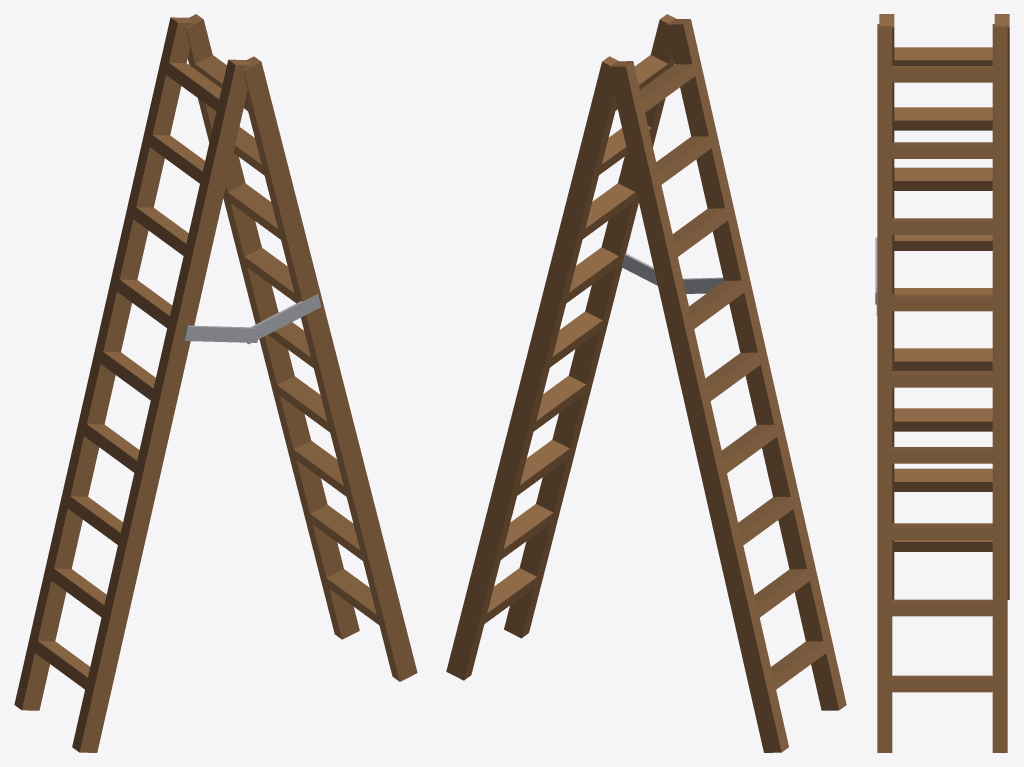
Rendered from escalera_plegable1.fbx.
3 renders of one model, left to right at view 1: azimuth 30°, elevation 25°; view 2: azimuth 150°, elevation 25°; view 3: azimuth 270°, elevation 25°, orthographic.
Parts seen in each view (by area): view 1: Cubo; view 2: Cubo; view 3: Cubo.
Boxes of the visible parts, <box> form: Cubo: <box>14,14,417,752</box>; Cubo: <box>446,14,846,752</box>; Cubo: <box>875,14,1009,752</box>.
Size of the model in its own units: 261 by 485 by 89.99.
